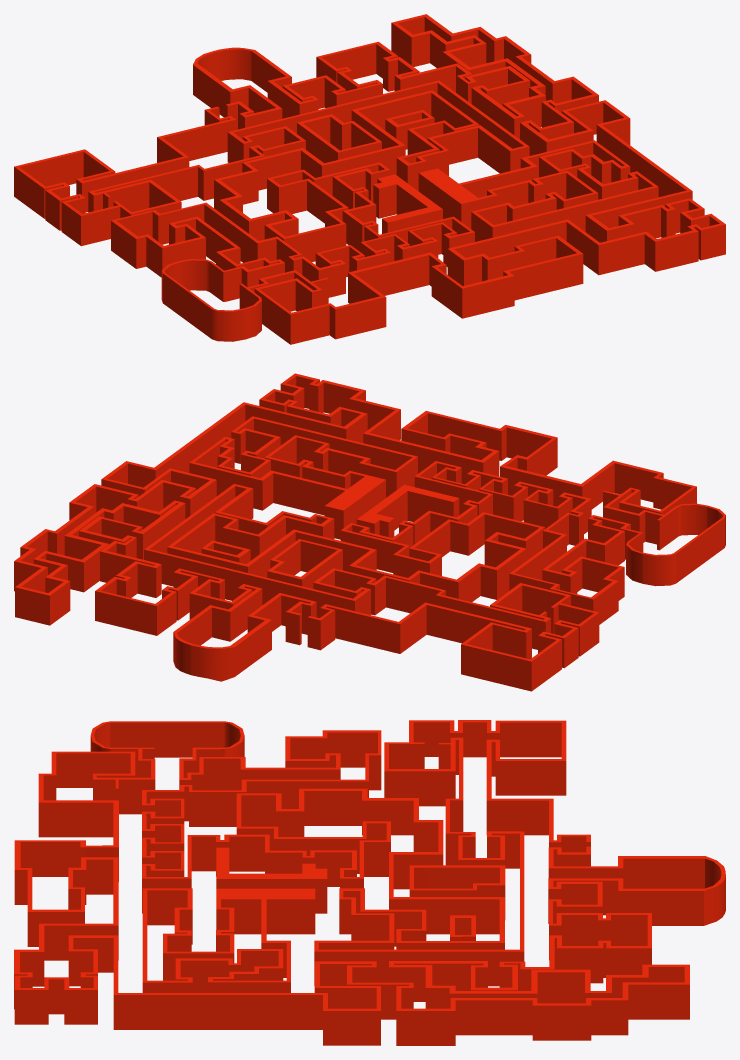
Rendered from Dungeon.fbx.
3 views of the same model, one above another, from view 1: azimuth 30°, elevation 25°; view 2: azimuth 150°, elevation 25°; view 3: azimuth 270°, elevation 25° (orthographic). The views are drawn at different scales.
Parts seen in each view (by area): view 1: Dungeon; view 2: Dungeon; view 3: Dungeon.
Boxes of the visible parts, x1,y1,x2,y2 form: Dungeon: [14, 14, 725, 344]; Dungeon: [14, 373, 725, 691]; Dungeon: [14, 720, 725, 1045].
Size of the model in its own units: 17.88 by 1.12 by 18.5.
